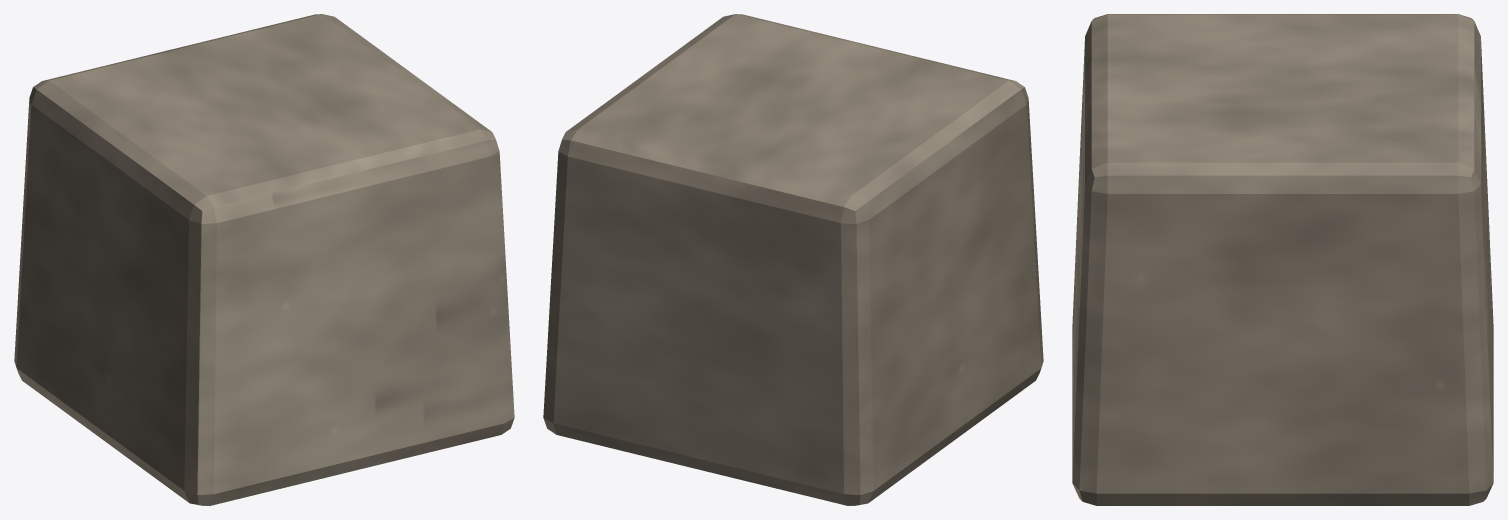
3 views of the same model, side by side, from view 1: azimuth 30°, elevation 25°; view 2: azimuth 150°, elevation 25°; view 3: azimuth 270°, elevation 25° (orthographic). The views are drawn at different scales.
Parts seen in each view (by area): view 1: terrain_stone; view 2: terrain_stone; view 3: terrain_stone.
Boxes of the visible parts, x1,y1,x2,y2 form: terrain_stone: [14, 14, 514, 505]; terrain_stone: [543, 14, 1043, 505]; terrain_stone: [1072, 14, 1493, 505].
Bounding box in the file's own units: 0.96 × 0.85 × 0.96.
Materials: 1 (1 with a texture image).
